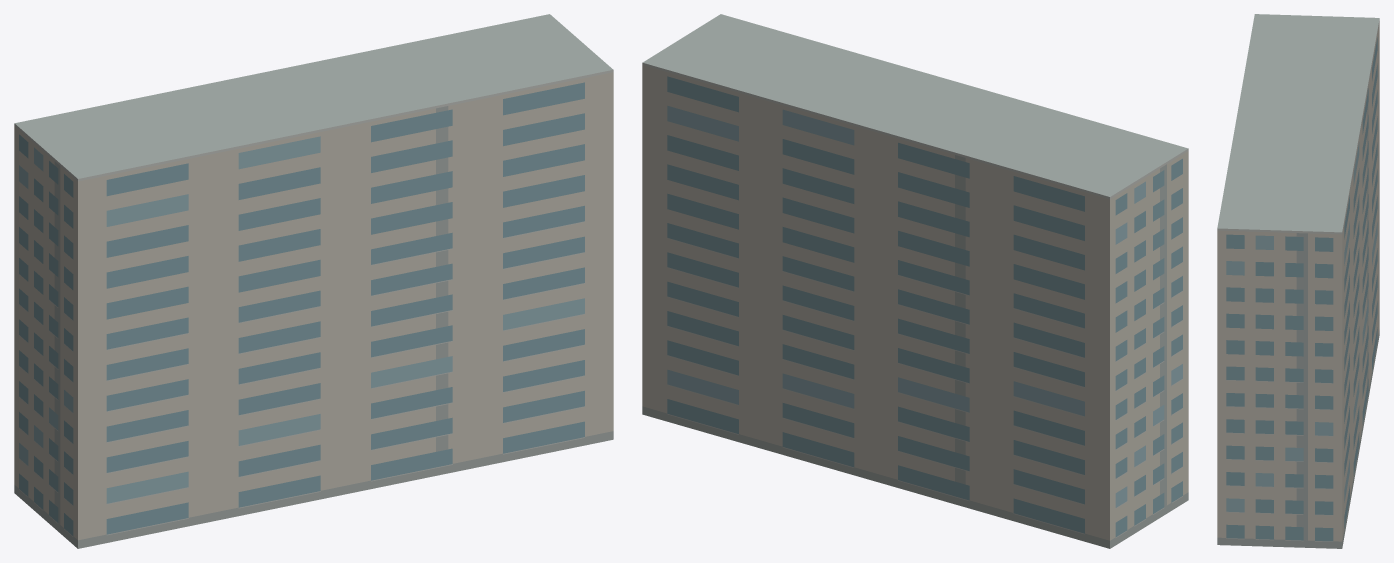
Rendered from residential-0a1524c4-6474-4921-8450-5b6172fae4ac.glb.
The picture shows the model from 3 angles, left to right: view 1: azimuth 30°, elevation 25°; view 2: azimuth 150°, elevation 25°; view 3: azimuth 270°, elevation 25°; orthographic projection. The views are drawn at different scales.
Visible parts, largest first — view 1: residential-0a1524c4-6474-4921-8450-5b6172fae4ac.tmp; view 2: residential-0a1524c4-6474-4921-8450-5b6172fae4ac.tmp; view 3: residential-0a1524c4-6474-4921-8450-5b6172fae4ac.tmp.
Part boxes in pixels (x1,y1,x2,y2): residential-0a1524c4-6474-4921-8450-5b6172fae4ac.tmp: (14,14,613,548); residential-0a1524c4-6474-4921-8450-5b6172fae4ac.tmp: (642,14,1188,548); residential-0a1524c4-6474-4921-8450-5b6172fae4ac.tmp: (1217,14,1379,548).
Bounding box in the file's own units: 54.16 × 36.6 × 17.03.
